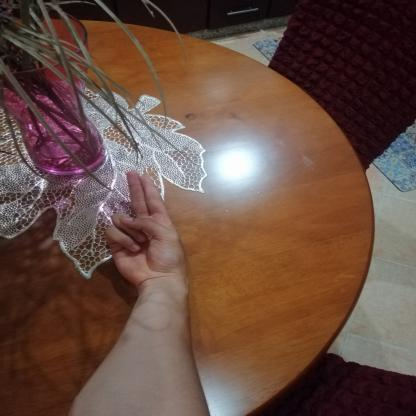TA: (81, 156, 202, 290)
